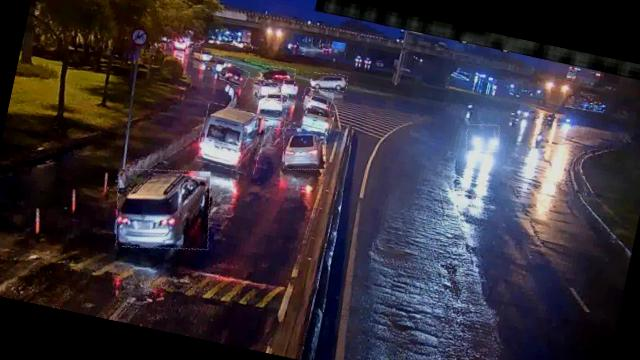Bus: (194, 102, 268, 175)
Car: (108, 158, 220, 260), (278, 121, 331, 174), (463, 121, 502, 156), (254, 99, 288, 130), (302, 103, 336, 134), (259, 62, 296, 90), (309, 69, 348, 94), (252, 74, 284, 102), (218, 62, 250, 88), (300, 87, 333, 112), (260, 88, 288, 114)
